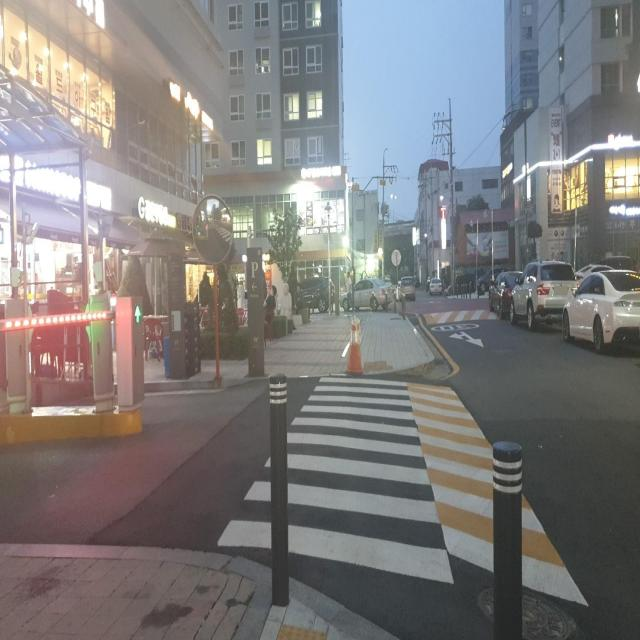횡단보도: (215, 370, 457, 590)
